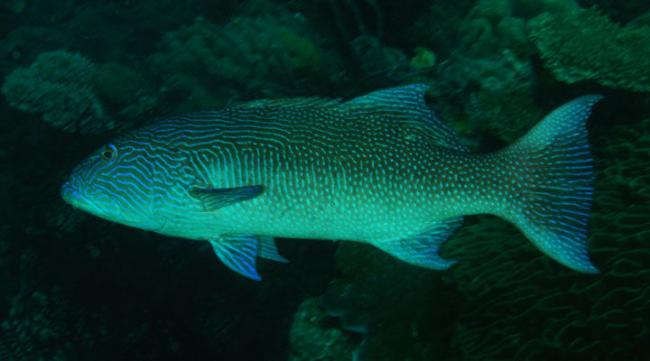fish: (60, 82, 607, 282)
